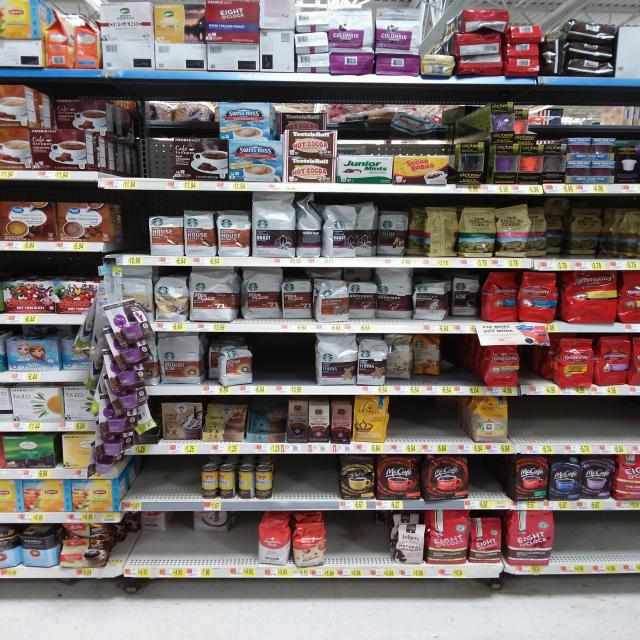void: (512, 396, 640, 444), (134, 517, 253, 567), (559, 512, 640, 563), (392, 398, 472, 442), (332, 513, 391, 565), (119, 116, 170, 176), (126, 458, 199, 498), (258, 333, 309, 386), (277, 455, 337, 499), (444, 335, 481, 377)
